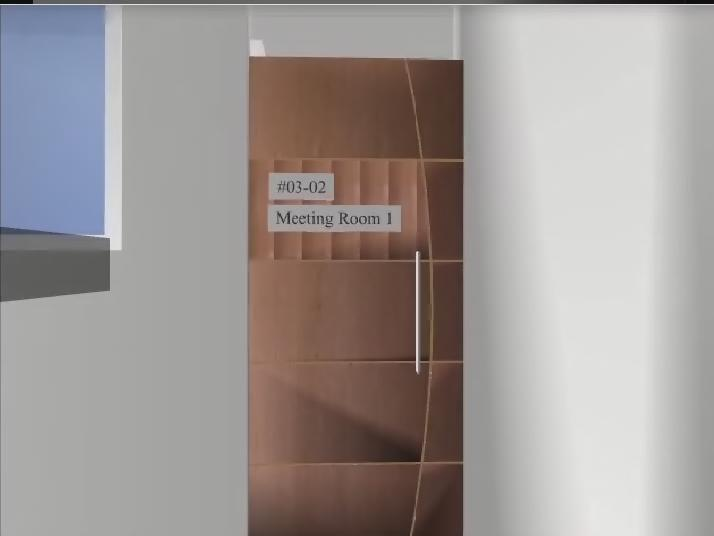door: (249, 58, 463, 536)
